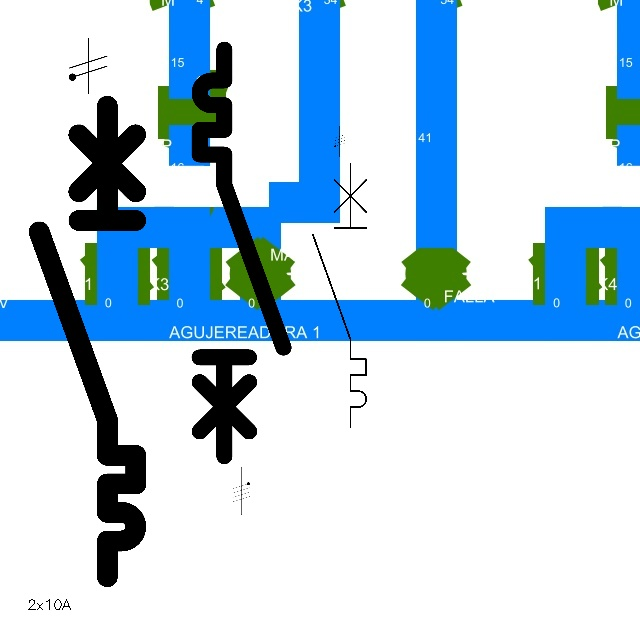interruptor_termomagnetico: (27, 93, 148, 588), (189, 39, 293, 467), (306, 157, 373, 433)
